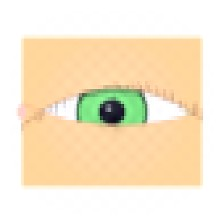pterygium_lesion: (159, 95, 201, 129)
